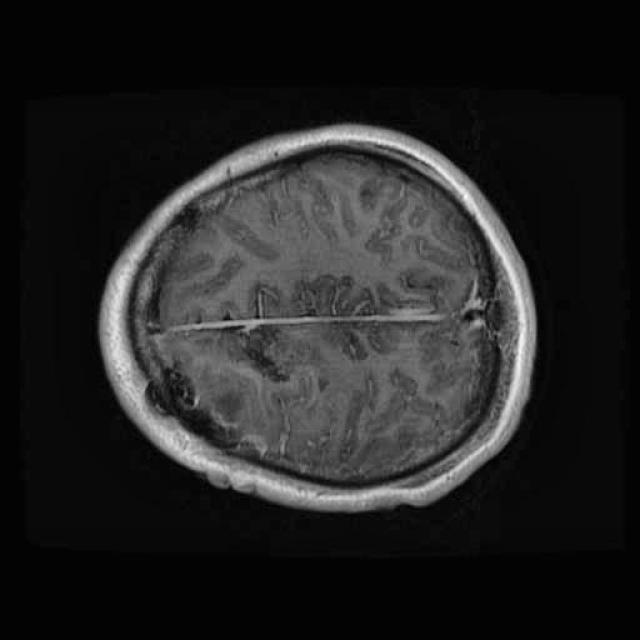Non-Tumor: (126, 345, 265, 471)
